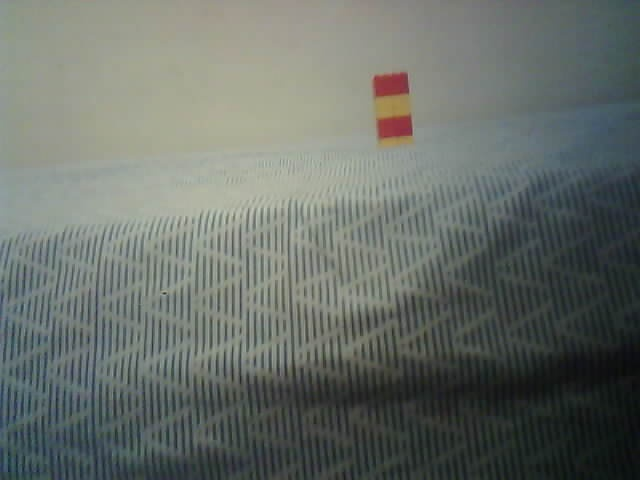lego: (371, 71, 413, 149)
